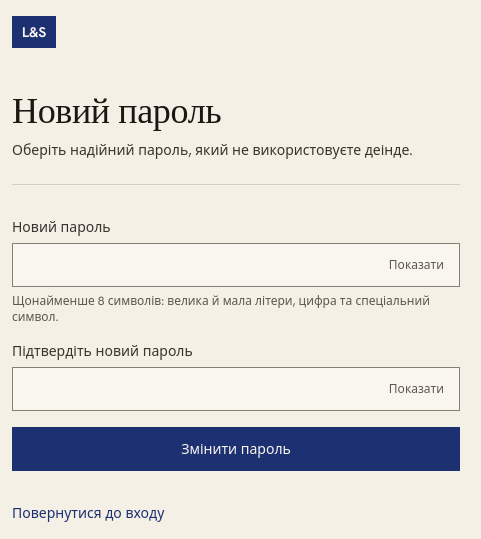
ResetPasswordPage › confirms the change and says the other sessions are gone
In the password field labelled "Новий пароль": (236, 265) x1=12 y1=243 x2=460 y2=287, type "BrandNew1!"
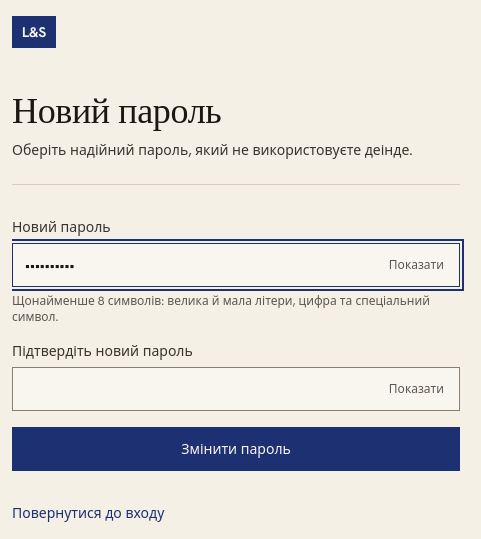
In the password field labelled "Підтвердіть новий пароль": (236, 389) x1=12 y1=367 x2=460 y2=411, type "BrandNew1!"
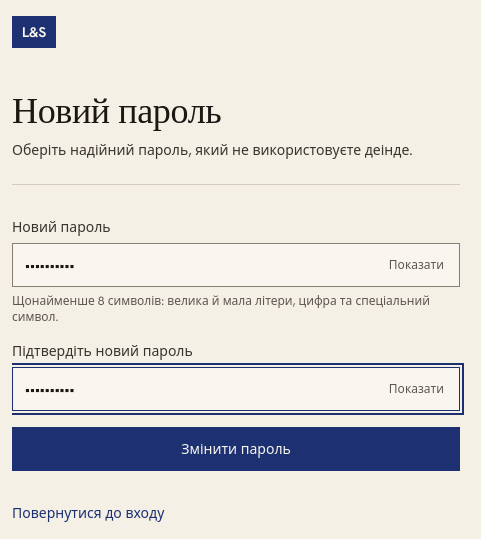
Click the button "Змінити пароль": (236, 449) x1=12 y1=427 x2=460 y2=471
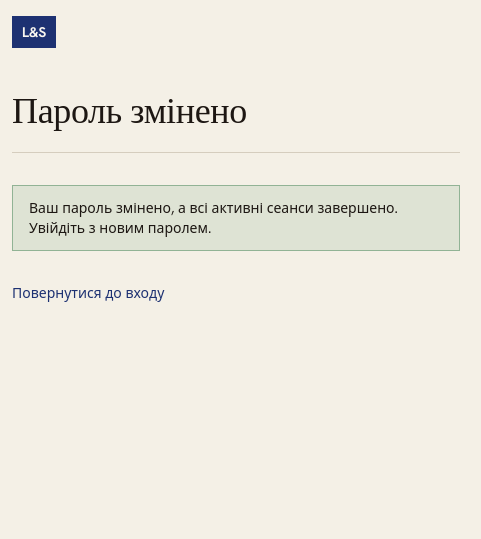
Now the heading "Пароль змінено" is shown, box x1=12 y1=84 x2=247 y2=132
Now the text "Ваш пароль змінено, а всі активні сеанси завершено. Увійдіть з новим паролем." is shown, box x1=12 y1=185 x2=460 y2=251
